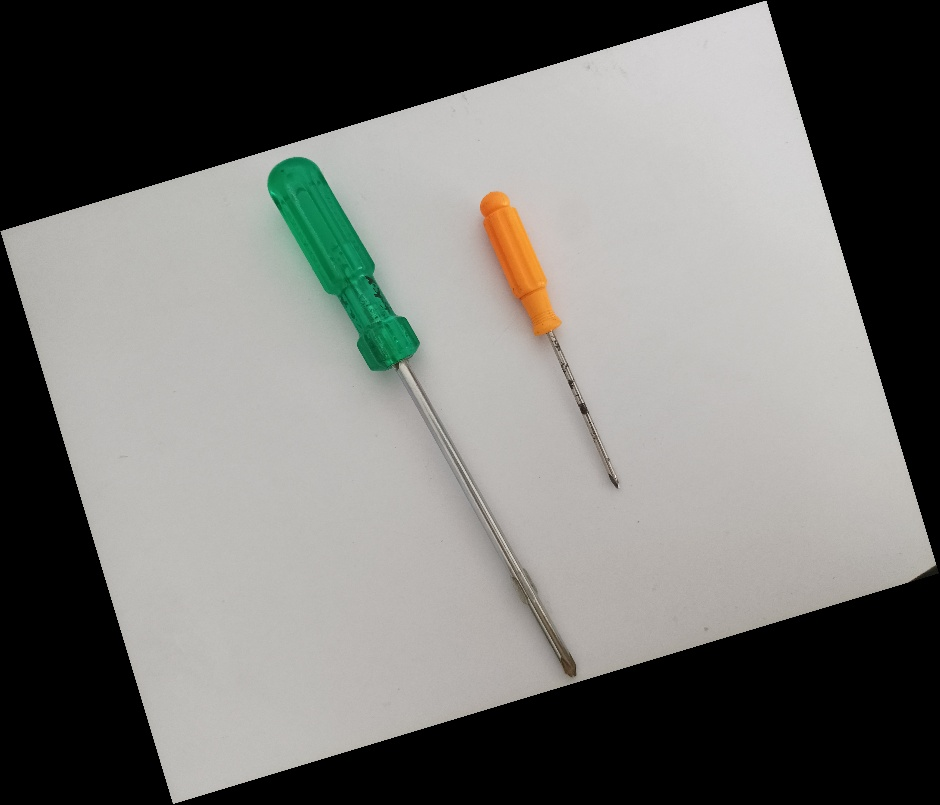screwdriver: (264, 155, 579, 680), (477, 187, 622, 495)
